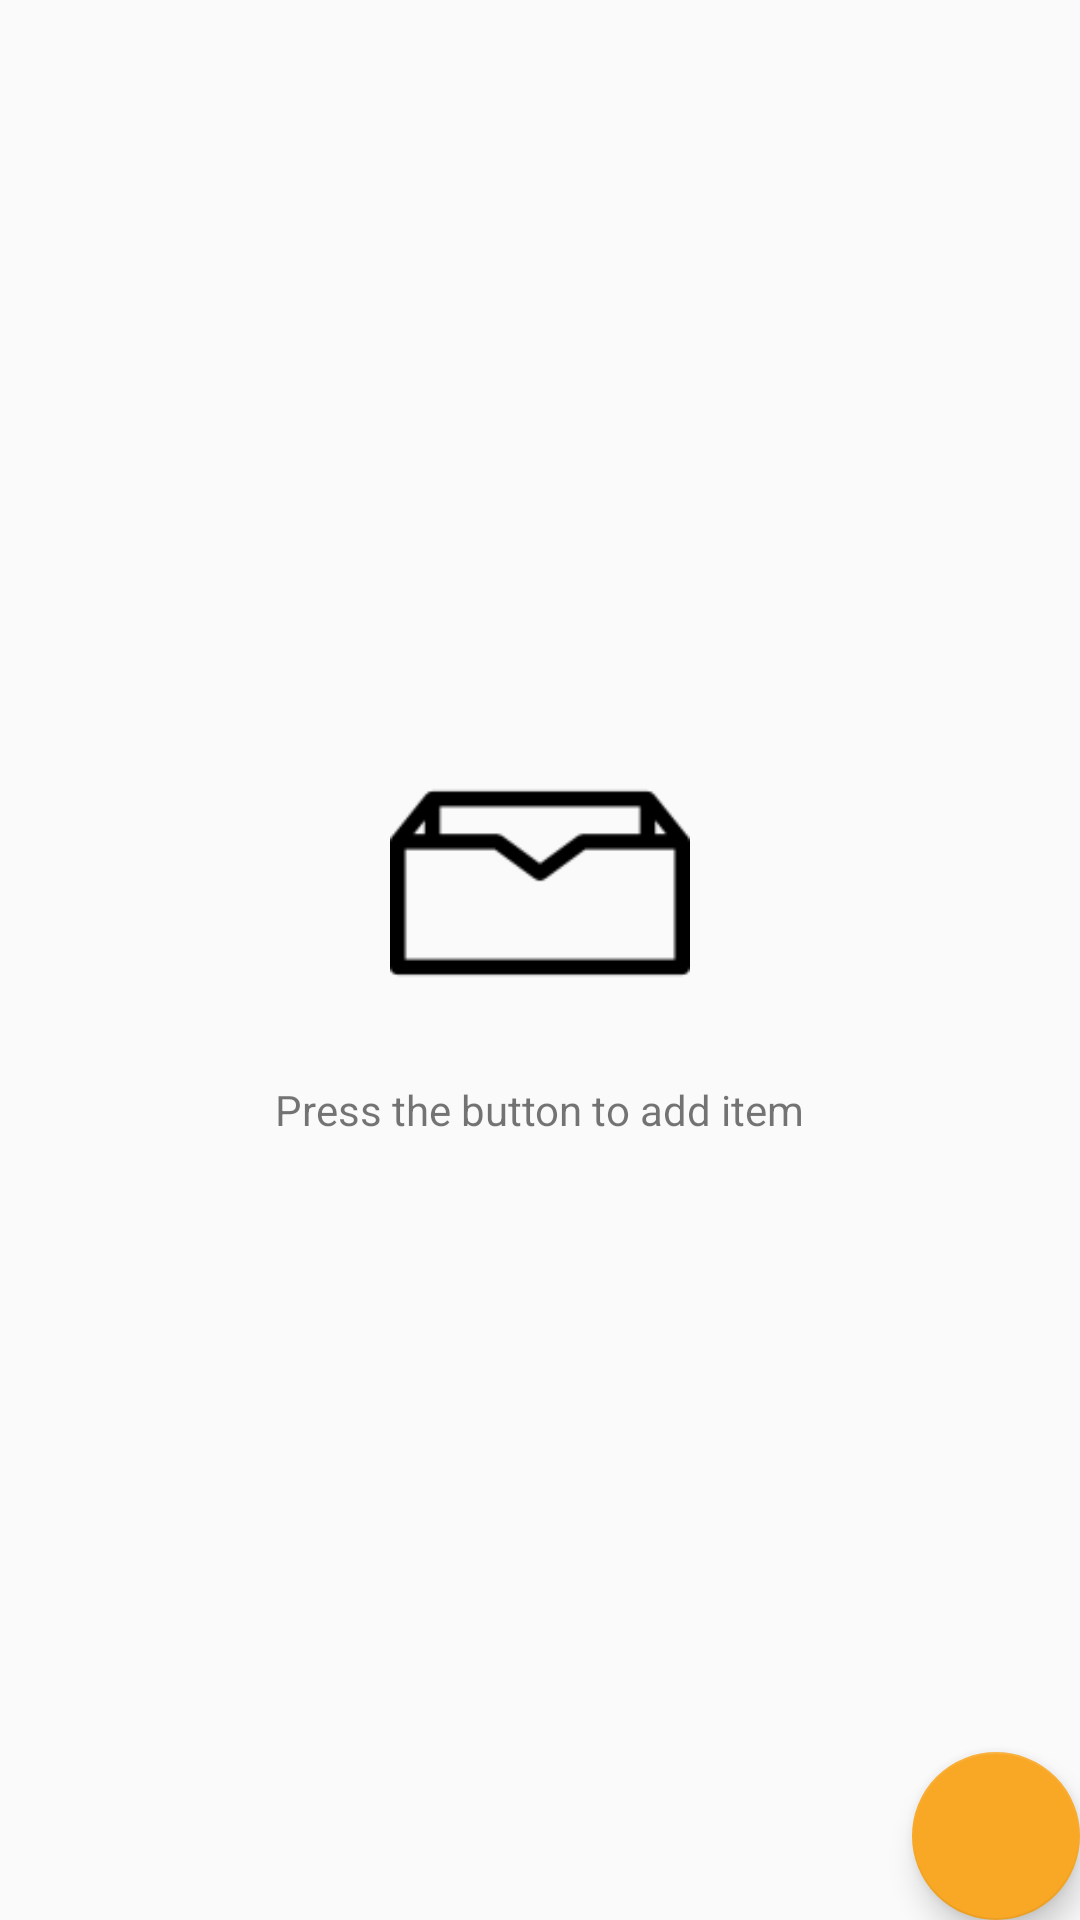

Named icons in this screenshot (1080×1920) and their bounding boxes, detection(x1, y1, x2, y2):
empty box: detection(390, 790, 690, 976)
